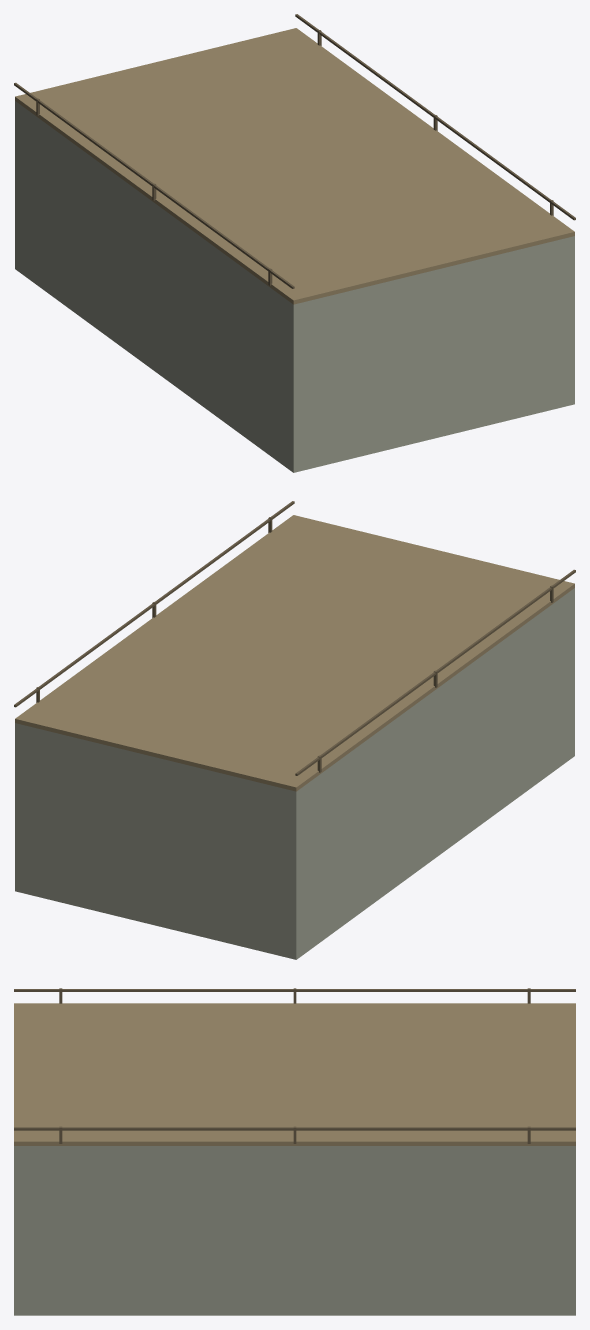
Rendered from deck_wood.glb.
3 views of the same model, one above another, from view 1: azimuth 30°, elevation 25°; view 2: azimuth 150°, elevation 25°; view 3: azimuth 270°, elevation 25° (orthographic).
Parts seen in each view (by area): view 1: deck_wood; view 2: deck_wood; view 3: deck_wood.
Boxes of the visible parts, bbox=[...] form: deck_wood: bbox=[14, 14, 575, 472]; deck_wood: bbox=[14, 501, 575, 959]; deck_wood: bbox=[14, 988, 575, 1315].
Bounding box in the file's own units: 14.12 × 8.88 × 24.
